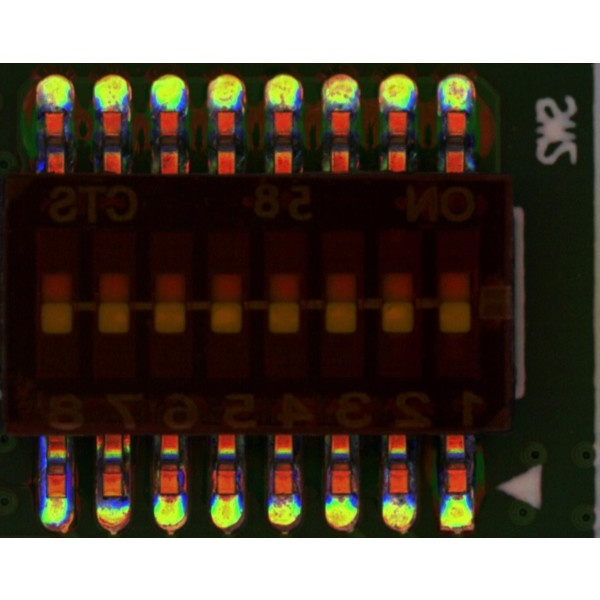Bad_podu: (162, 487, 178, 502), (47, 490, 64, 504), (218, 487, 234, 501)
